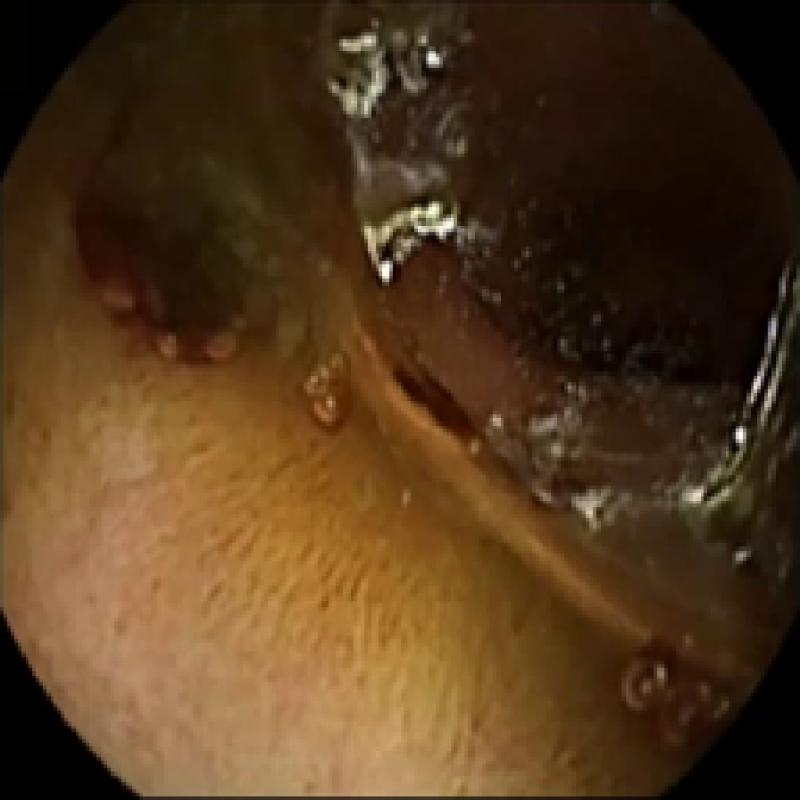bleeding: (580, 177, 794, 388), (68, 120, 246, 361), (616, 633, 734, 737), (397, 359, 483, 443)
